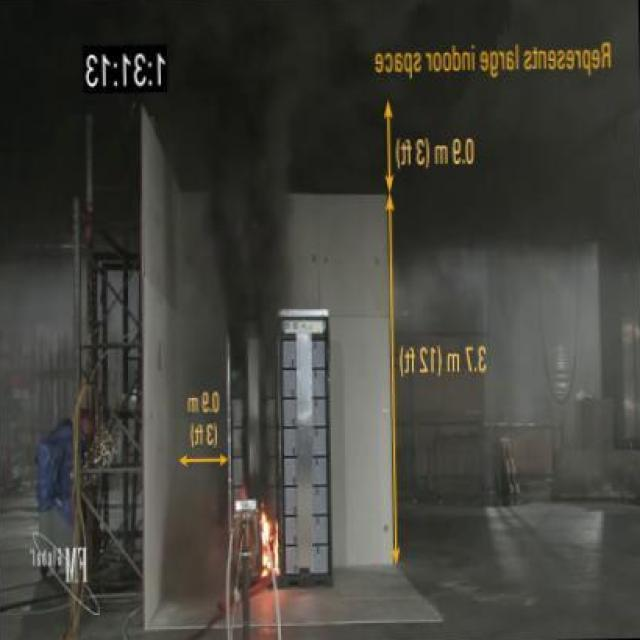fire: (180, 64, 318, 300)
smoke: (255, 502, 282, 580)
